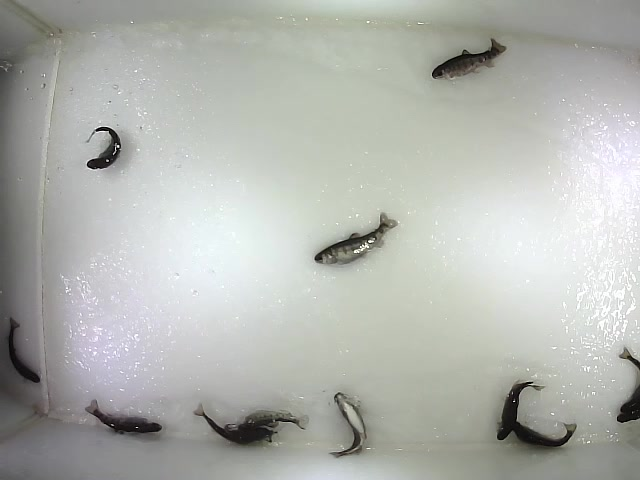fish: (313, 211, 401, 268), (192, 402, 277, 448), (431, 37, 509, 83), (495, 378, 547, 442), (83, 398, 164, 438), (328, 391, 368, 460), (7, 316, 42, 385), (508, 420, 578, 449), (235, 407, 311, 432), (84, 125, 123, 170)
